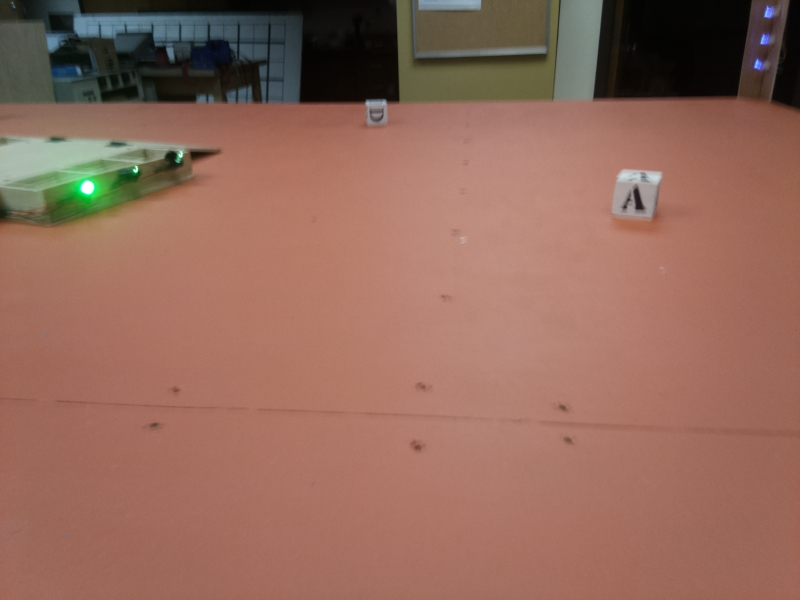blockA: (612, 170, 662, 222)
blockD: (365, 99, 388, 128)
corner: (736, 1, 788, 107)
side: (3, 150, 196, 231)
slope: (53, 133, 225, 159)
